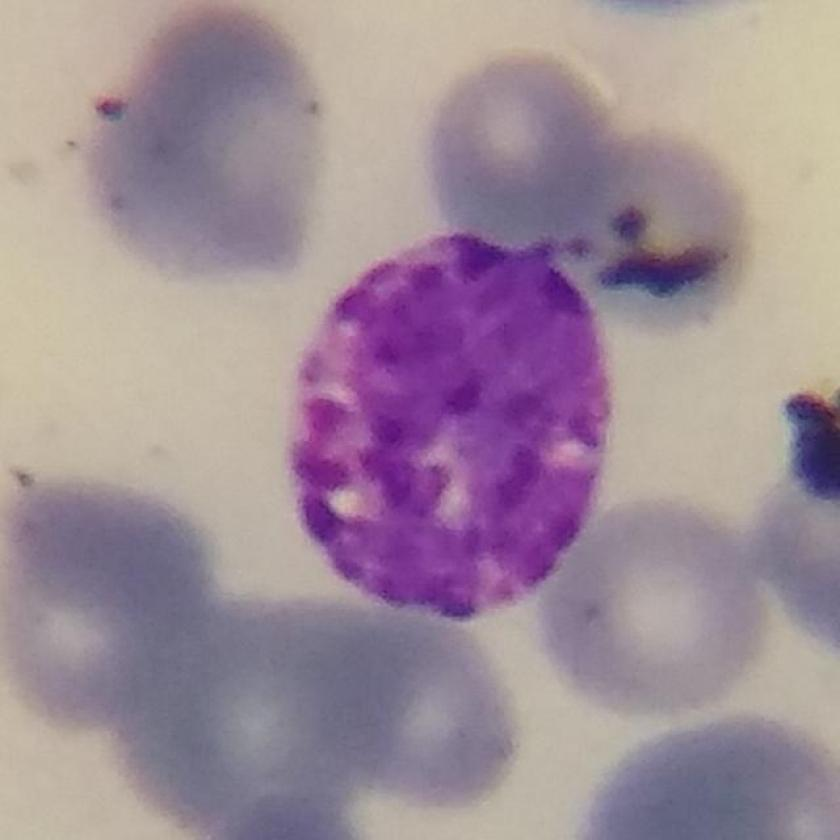basophil: (280, 214, 629, 630)
